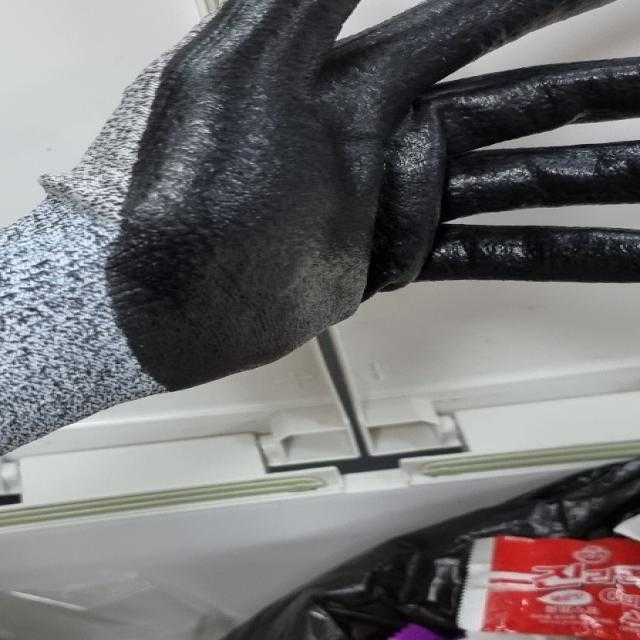Gloves: (0, 0, 639, 462)
